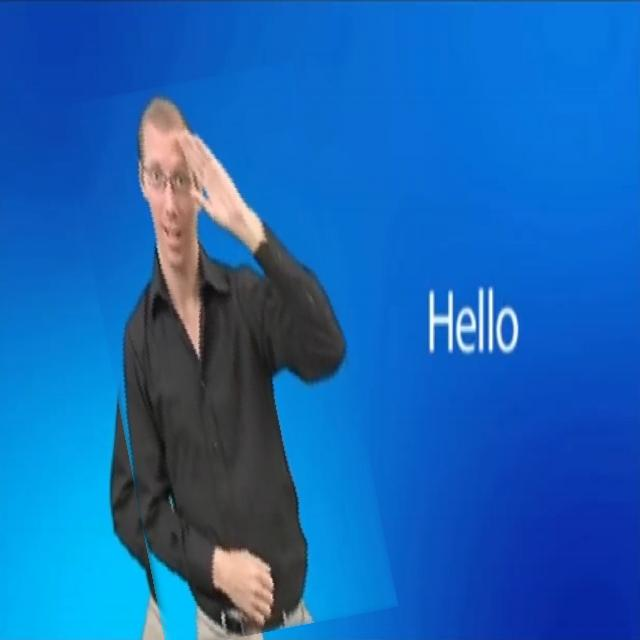Hello: (86, 69, 373, 640)
